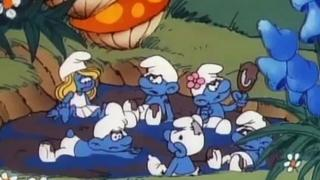smurf: (37, 115, 141, 165), (209, 108, 273, 173), (52, 51, 108, 123), (124, 56, 176, 127), (149, 116, 207, 179), (187, 62, 231, 135)
